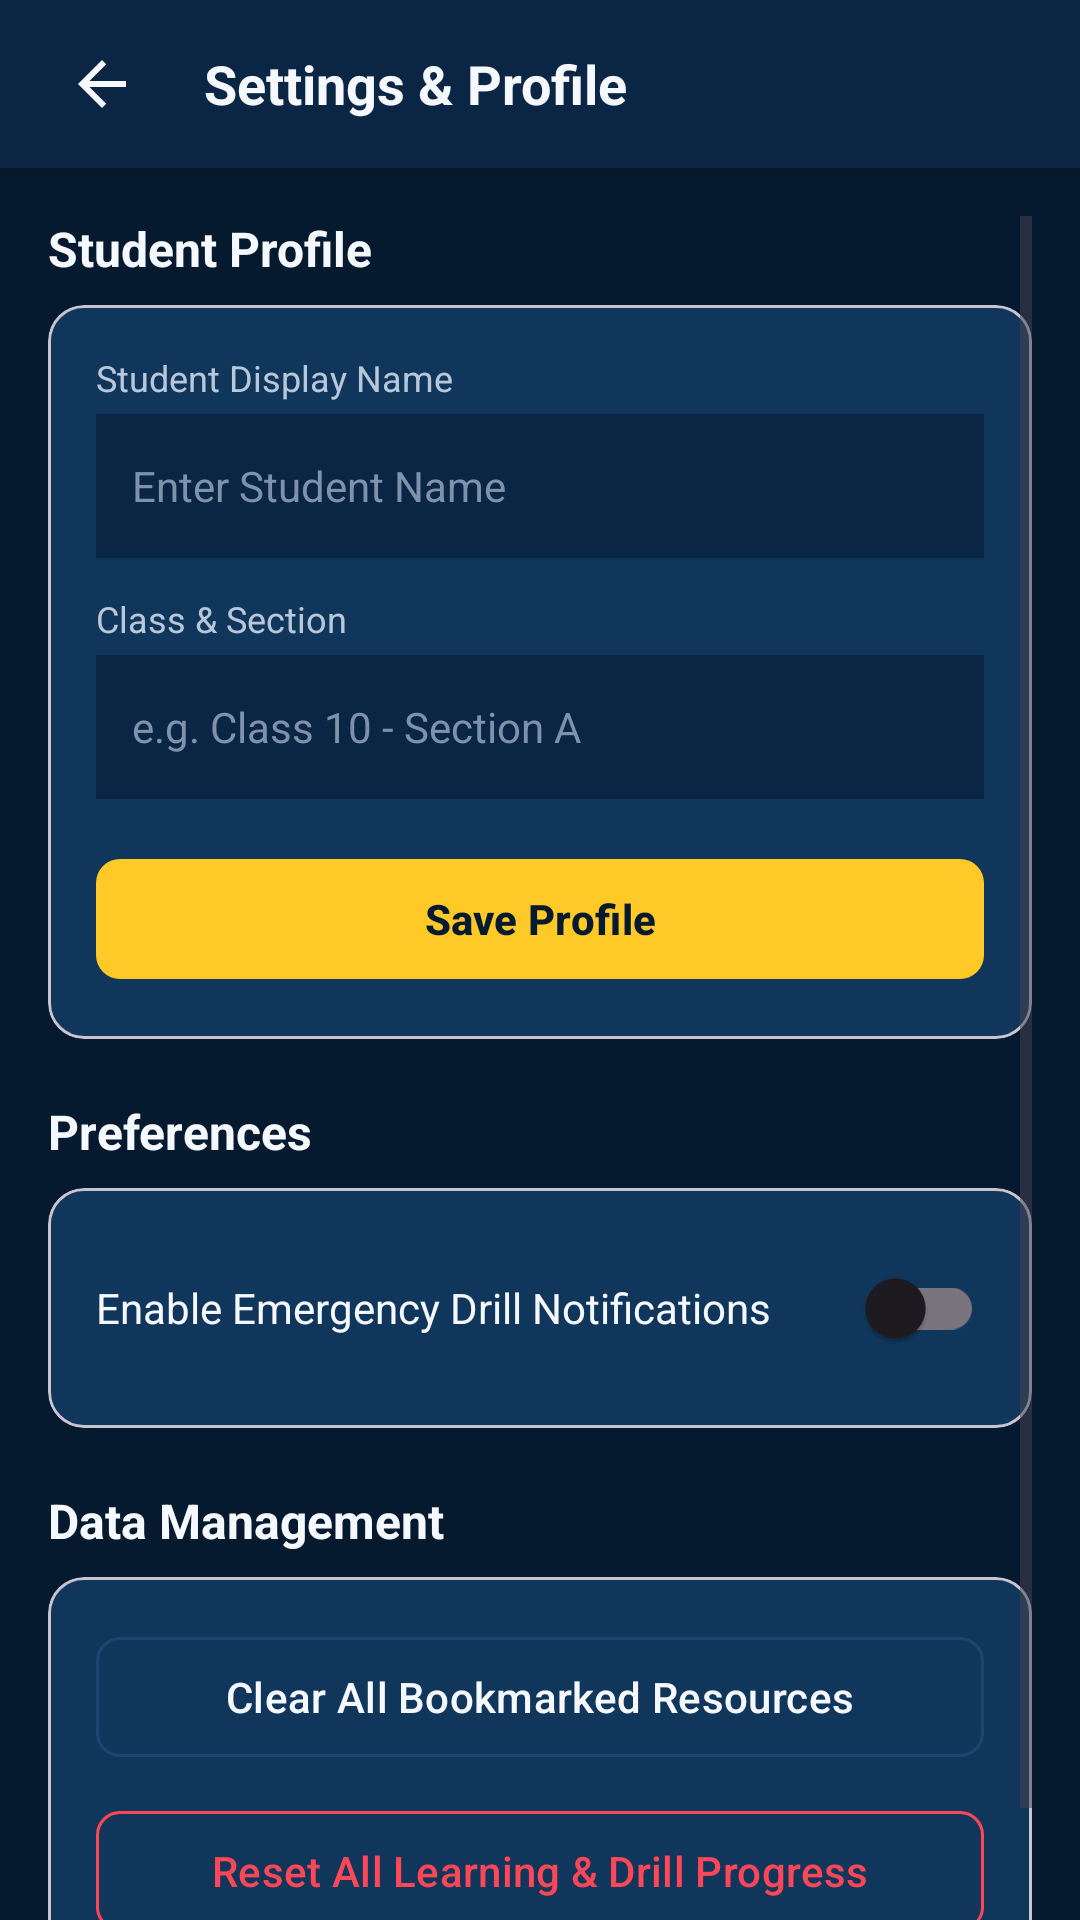

Where icons sit on this 1080px x 1920px app screen, as (x1, y1, x2, y2):
Back: (78, 60, 126, 108)
